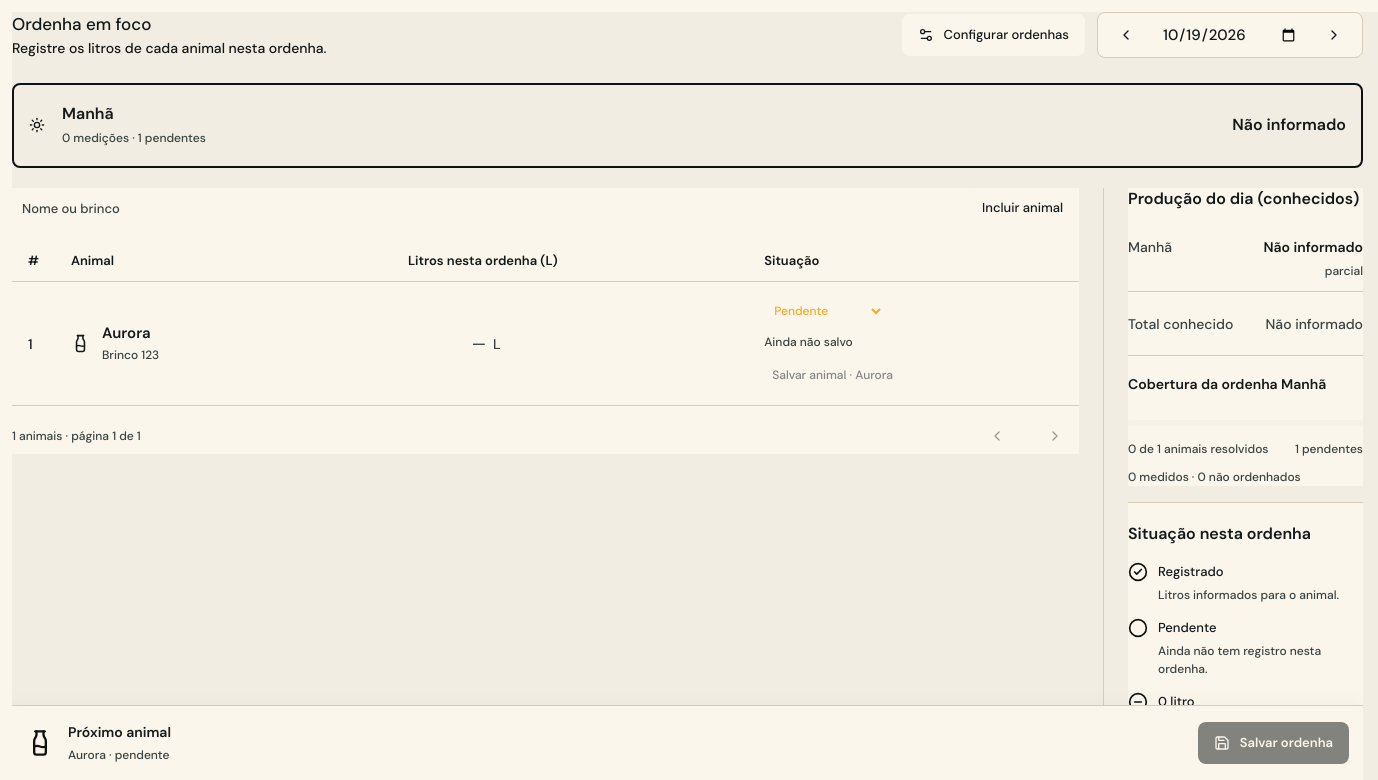
Test: Folha de ordenha › salva com sucesso e remove o rascunho sem afirmar completude operacional
Type "4" into the field named "Litros de Aurora, brinco 123" at [460, 344], box [408, 323, 513, 365]
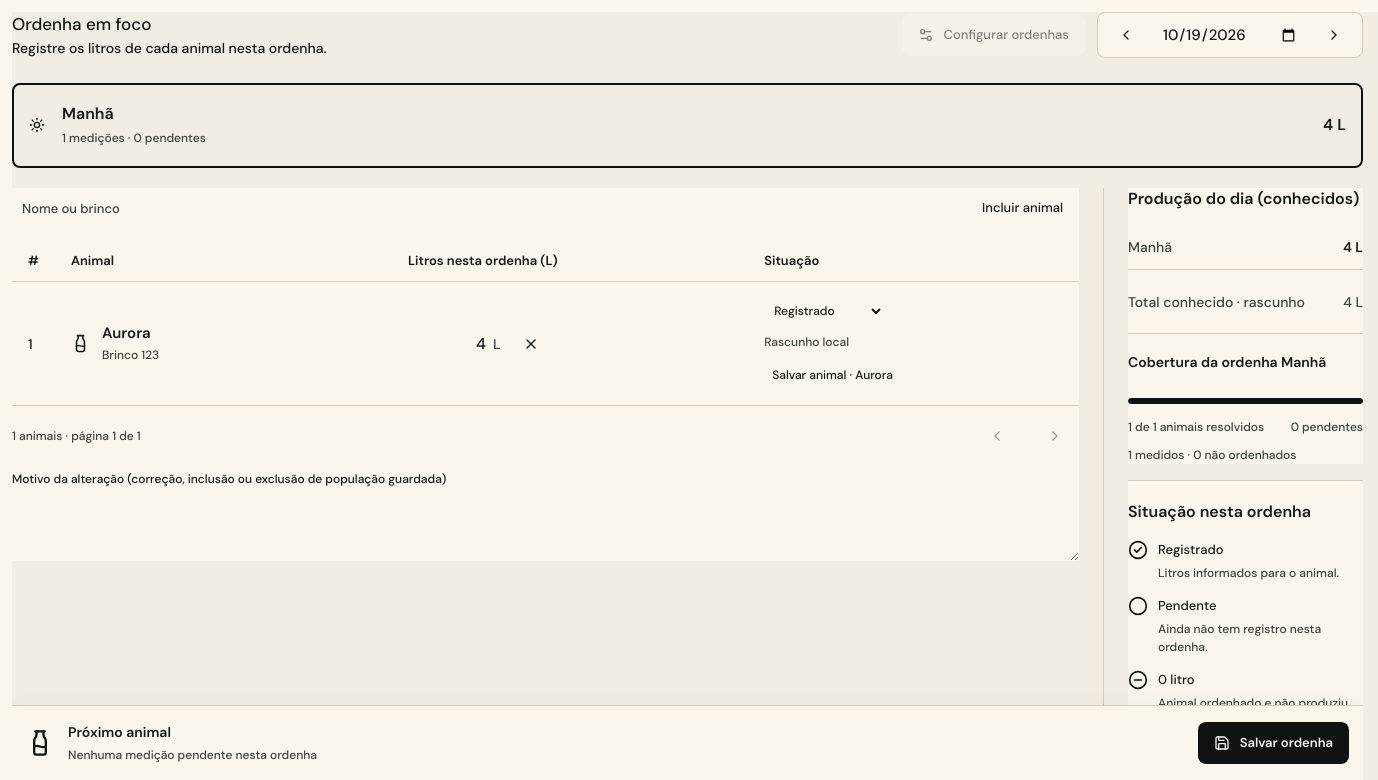
Click the button "Salvar ordenha" at [1273, 743], box [1198, 722, 1349, 764]
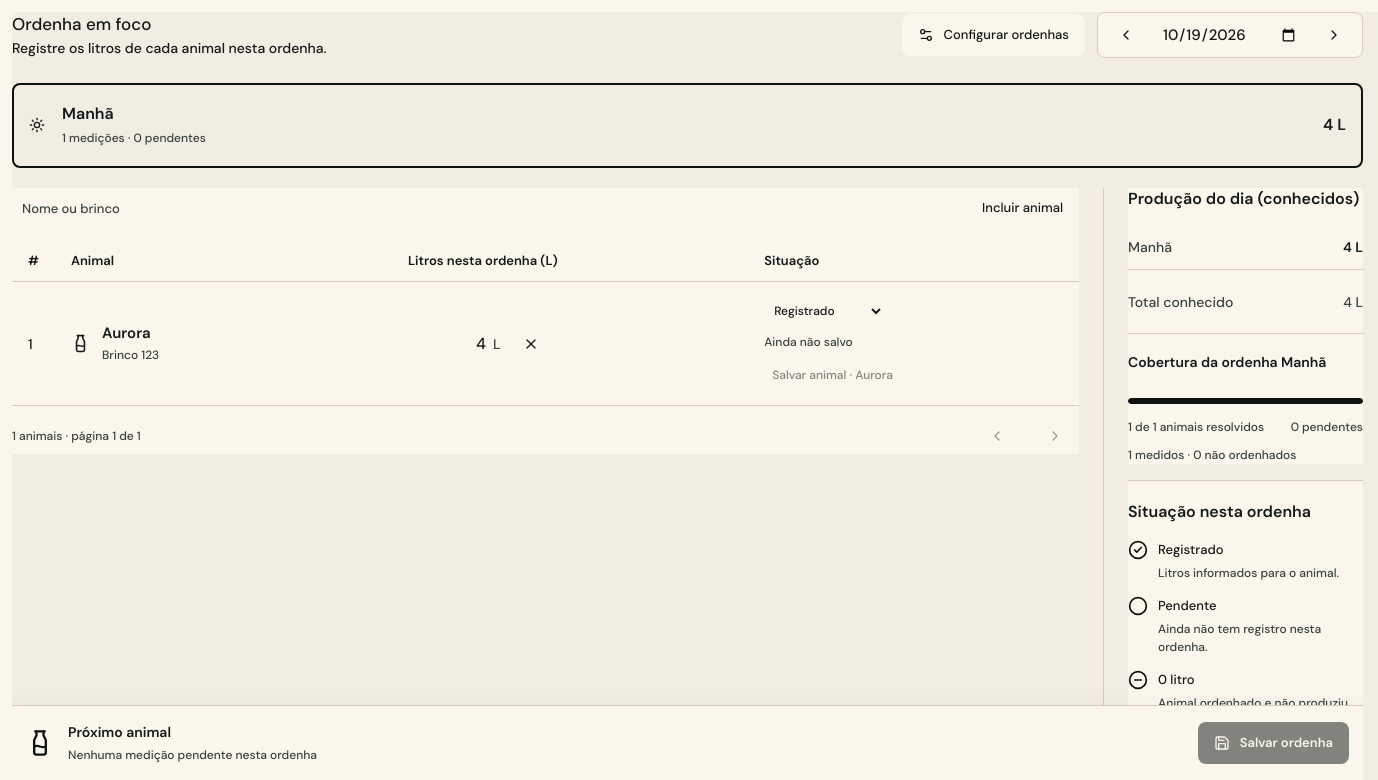
Expected: the button "Salvar ordenha" is disabled, [1198, 722, 1349, 764]
